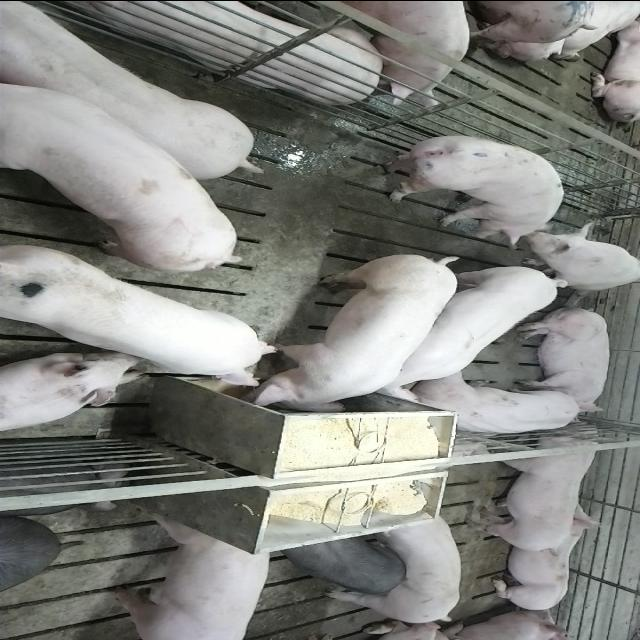Feeding: (6, 243, 282, 399), (235, 256, 465, 420)
Lateral_lying: (26, 0, 386, 101), (512, 303, 612, 413)
Sitting: (517, 226, 639, 292)
Standing: (0, 79, 248, 272), (1, 0, 260, 177), (358, 261, 568, 397), (360, 129, 564, 243), (101, 507, 272, 639), (460, 423, 598, 553), (336, 0, 471, 106), (350, 508, 462, 622), (276, 536, 410, 594)
Sternal_lying: (486, 510, 608, 610), (410, 375, 595, 438), (1, 354, 142, 435)
